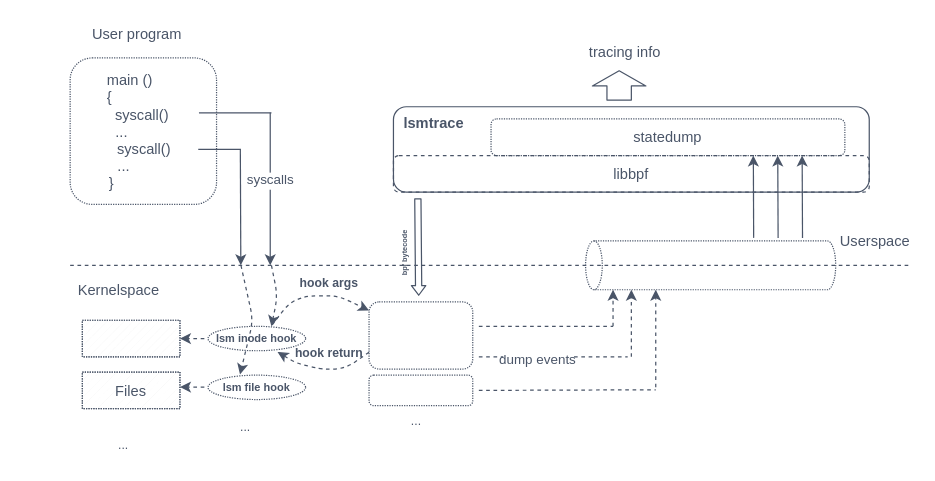
The diagram is 935 pixels wide and 481 high, and some of its shapes have lost their labels. The centre of each missing label's shape, as x and y in pixels:
"bpf inode program" goes at pixel 420 335.
"BPF ringbuffer" goes at pixel 710 265.
"Inodes" goes at pixel 130 338.
